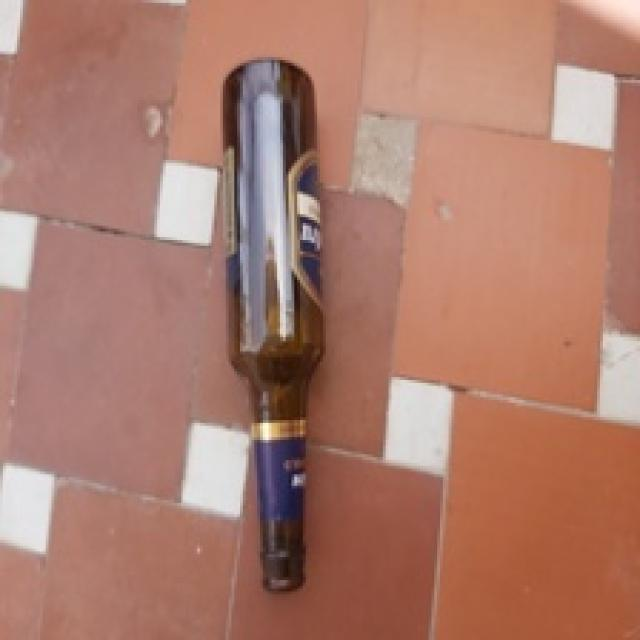Glass: (224, 57, 324, 592)
